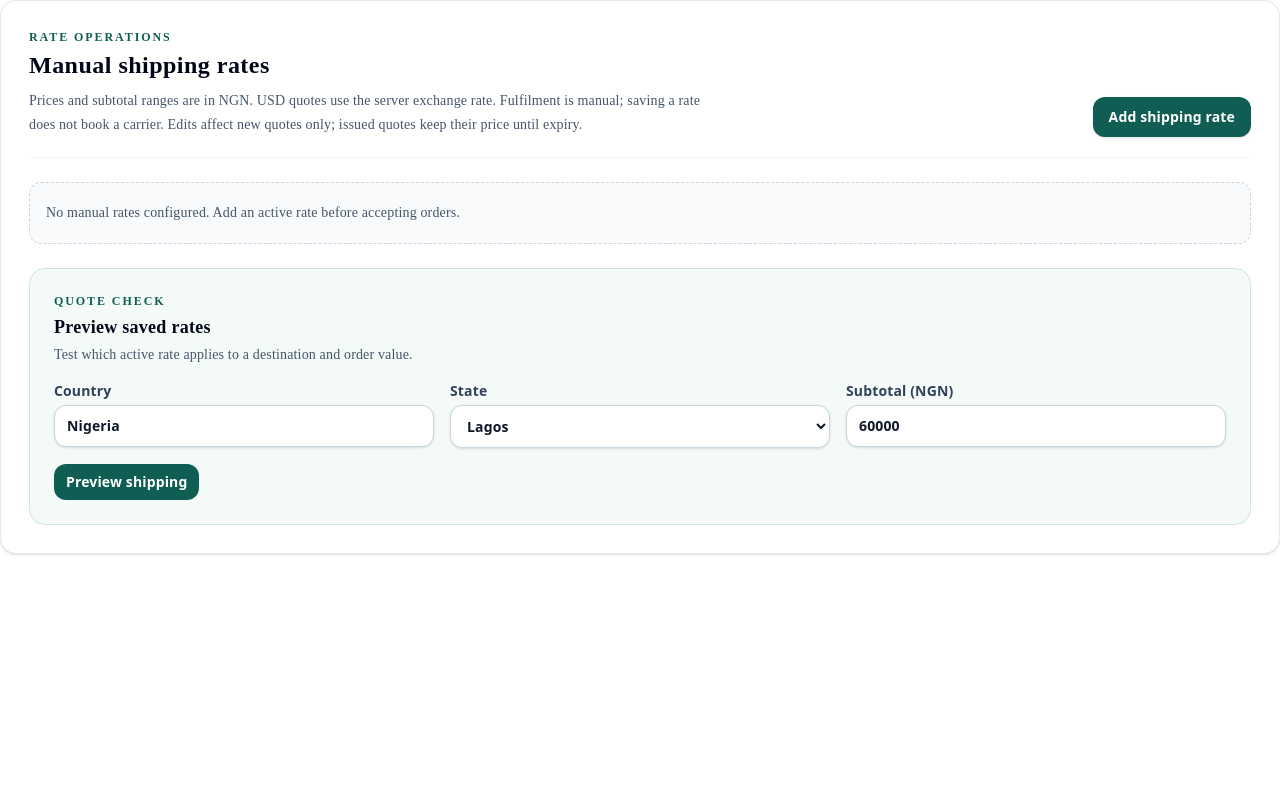
it: ManualShippingSettings › checks current dirty state when Escape is pressed after an edit
This screenshot has width=1280, height=800.
Step 1. Click the button "Add shipping rate" → {"x": 1172, "y": 117}, box [1093,97,1251,137]
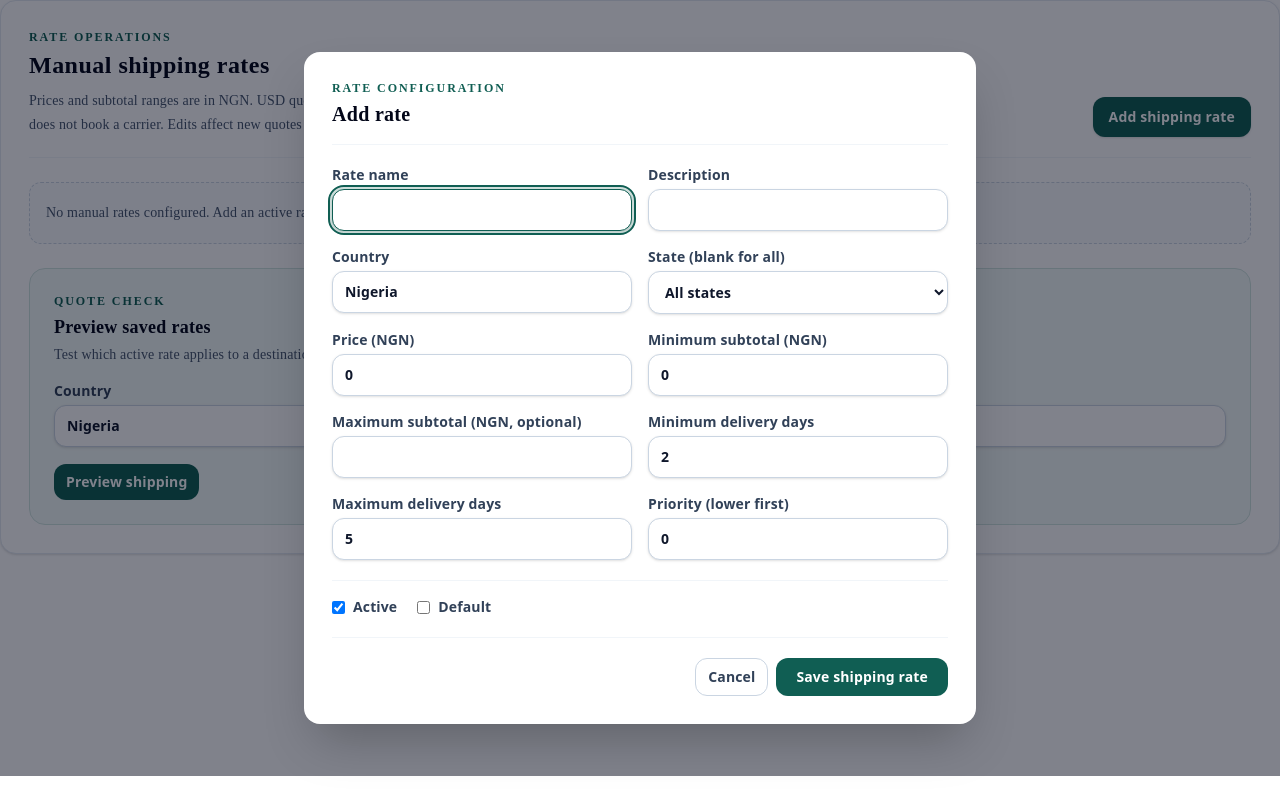
Step 2. Type "Lagos delivery" into the field labelled "Rate name" → {"x": 482, "y": 210}, box [332,189,632,231]
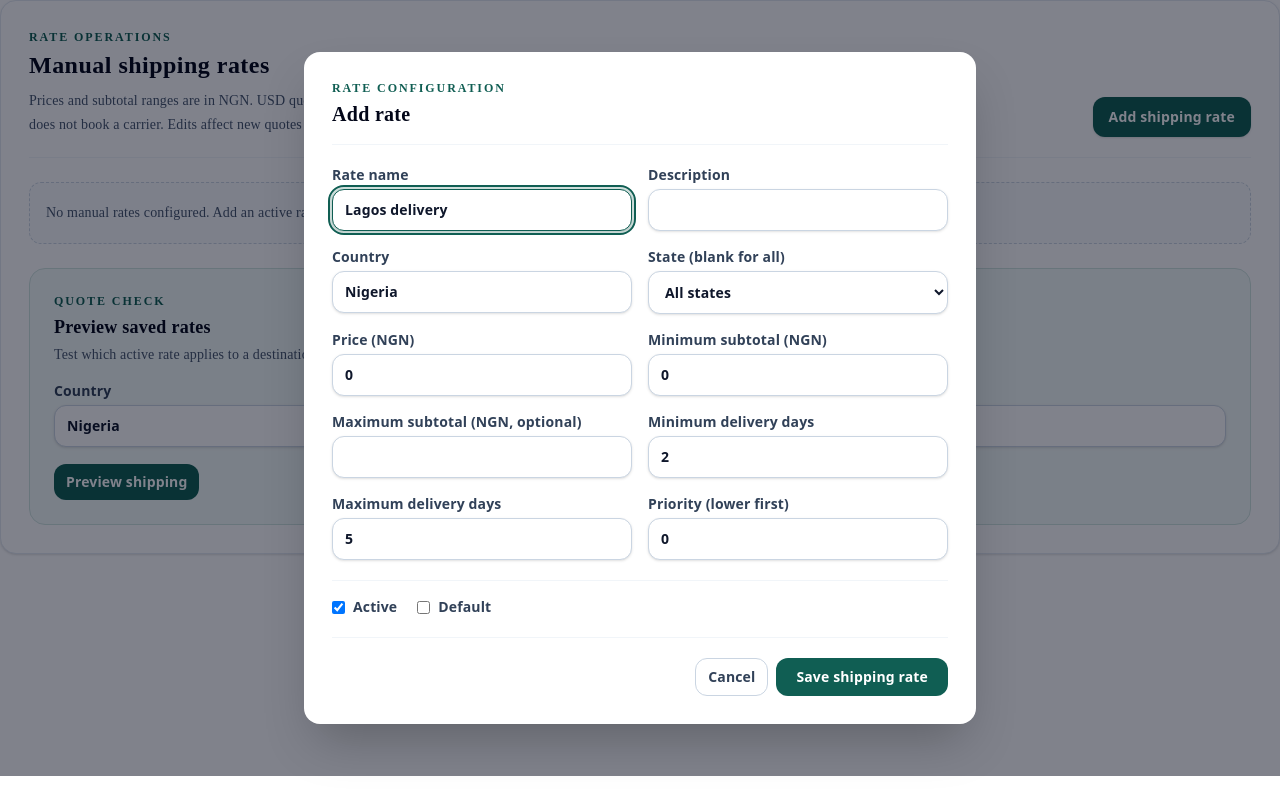
Step 3. Press Escape
expect the dialog is shown: met
Step 4. Press Escape
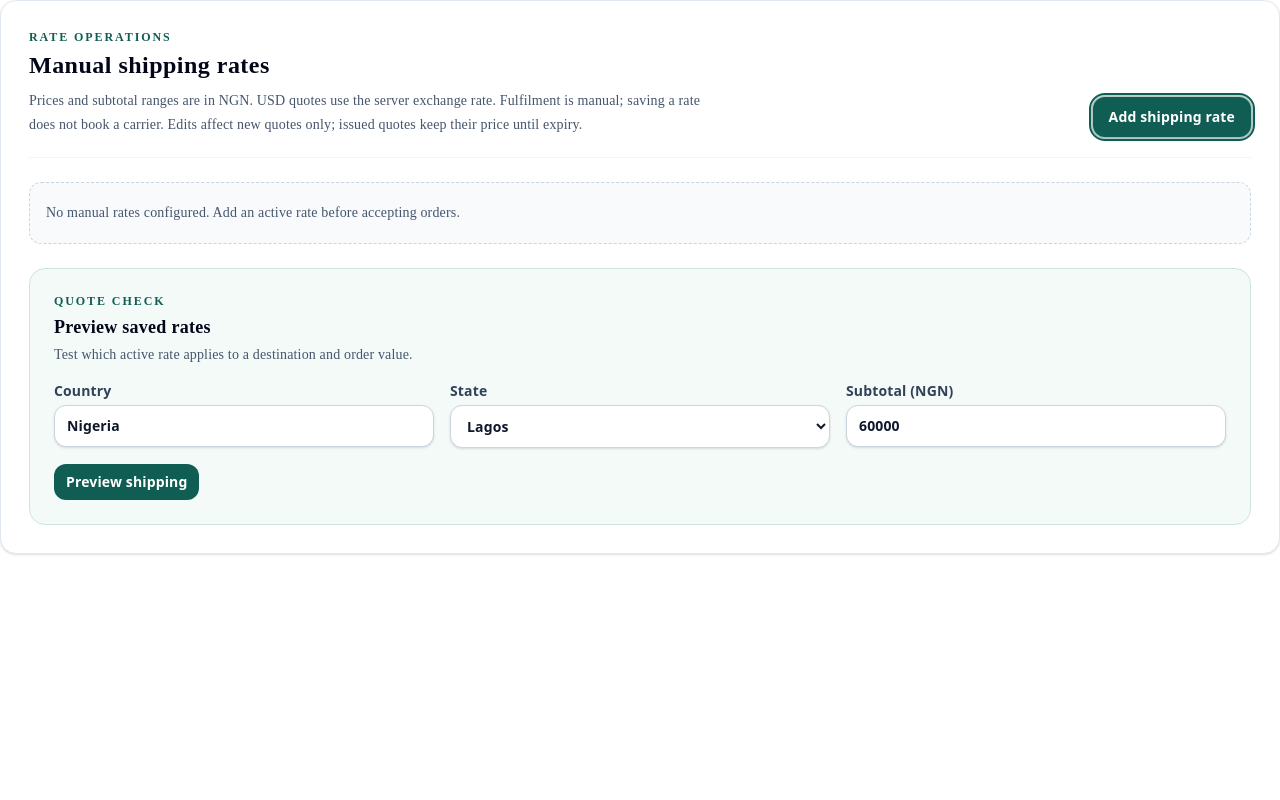
expect the dialog is gone: met
